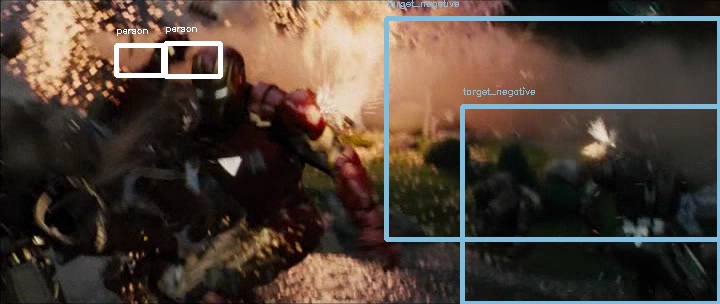person: (190, 48, 240, 116), (189, 48, 239, 116), (191, 48, 241, 116), (190, 47, 240, 115), (190, 49, 240, 117)
target_negative: (9, 62, 305, 261), (405, 46, 572, 205), (616, 47, 702, 127), (112, 64, 140, 213), (353, 231, 398, 302), (672, 183, 720, 203)
